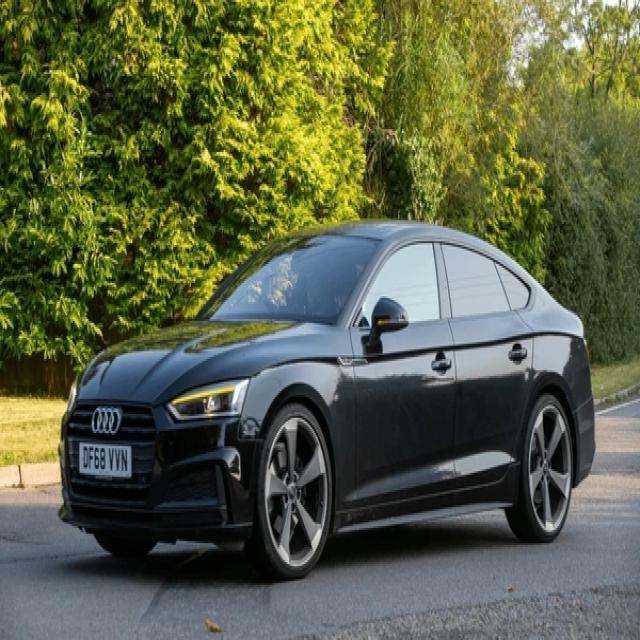audi: (90, 406, 124, 433)
